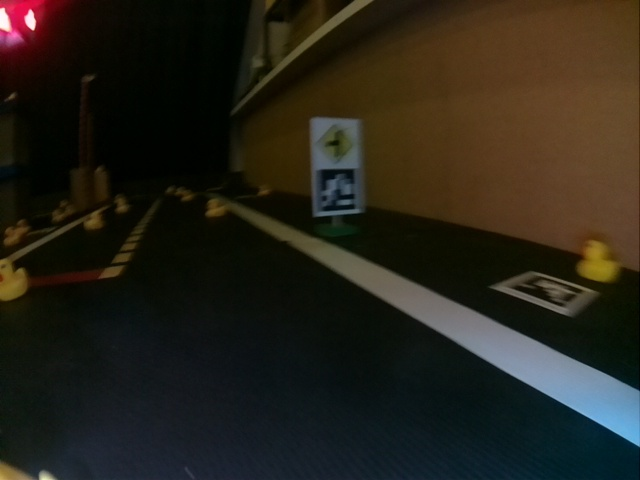Duckie: (580, 240, 613, 276), (3, 260, 28, 302), (206, 199, 225, 217), (84, 213, 103, 229)
Intersection sign: (315, 125, 354, 165)
QR code: (494, 275, 596, 316), (316, 169, 357, 212)
Traffic light: (1, 1, 37, 41)
